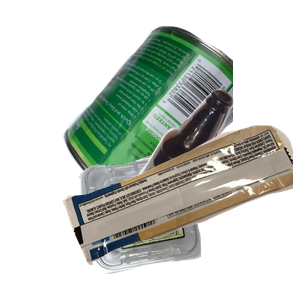glass: (130, 87, 300, 267)
metal: (60, 23, 300, 203)
plastic: (76, 151, 270, 300)
trash: (60, 123, 300, 300)
